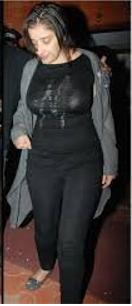Drunk: (32, 29, 58, 63)
